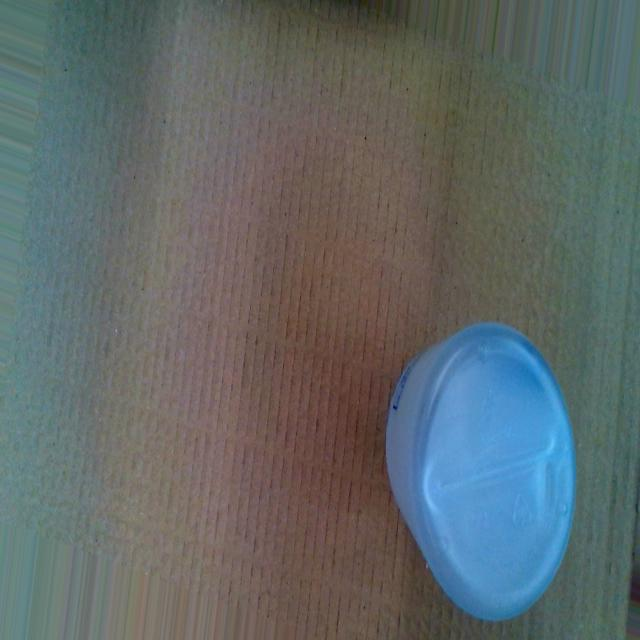bottle: (383, 320, 580, 628)
